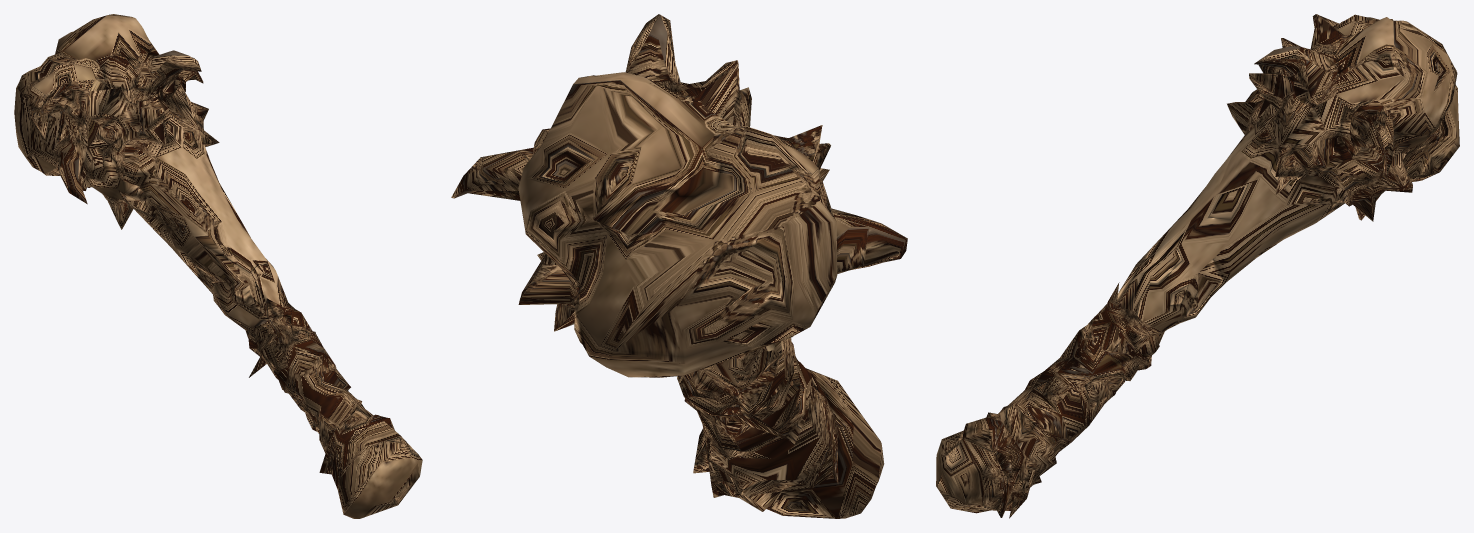
Rendered from w_bone_club.glb.
The picture shows the model from 3 angles, left to right: view 1: azimuth 30°, elevation 25°; view 2: azimuth 150°, elevation 25°; view 3: azimuth 270°, elevation 25°; orthographic projection. The views are drawn at different scales.
Bounding box in the file's own units: 0.5826 × 0.9372 × 1.
1 material, 1 textured.
